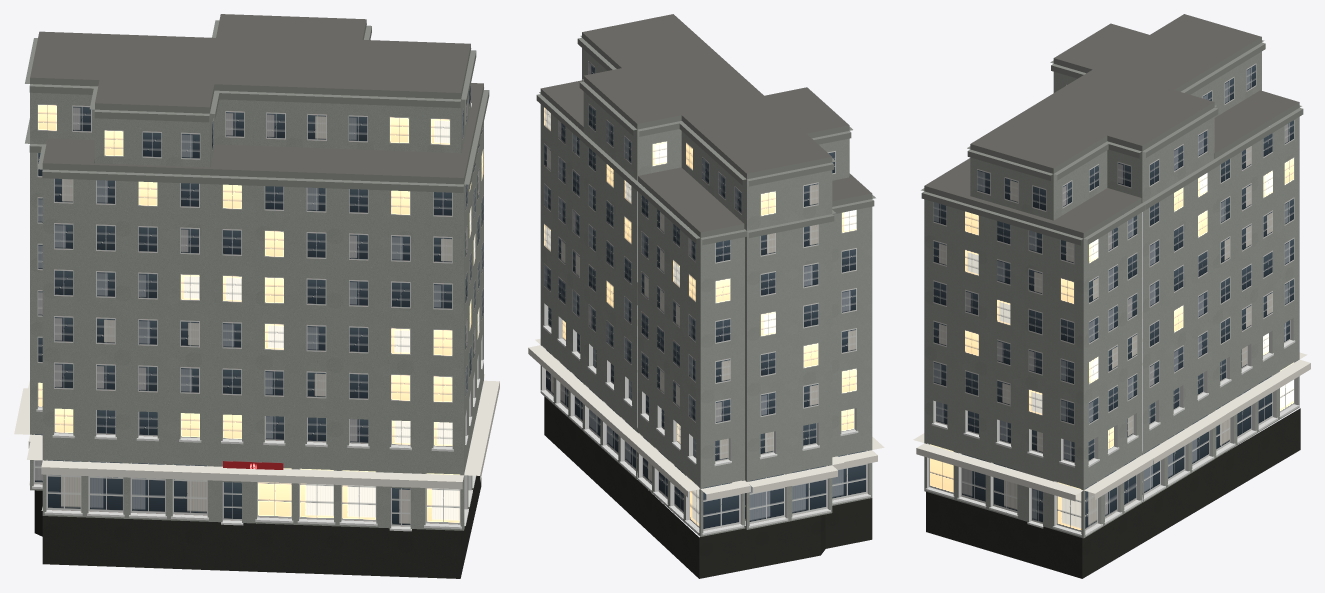
Rendered from langB_milano.glb.
3 renders of one model, left to right at view 1: azimuth 30°, elevation 25°; view 2: azimuth 150°, elevation 25°; view 3: azimuth 270°, elevation 25°, orthographic. The views are drawn at different scales.
Visible parts, largest first — view 1: langB_milano; view 2: langB_milano; view 3: langB_milano.
Boxes of the visible parts, x1=… form: langB_milano: x1=14, y1=14, x2=499, y2=578; langB_milano: x1=528, y1=14, x2=884, y2=578; langB_milano: x1=913, y1=14, x2=1310, y2=578.
Size of the model in its own units: 28.31 by 28.65 by 25.88.
Materials: 3 (3 with a texture image).
